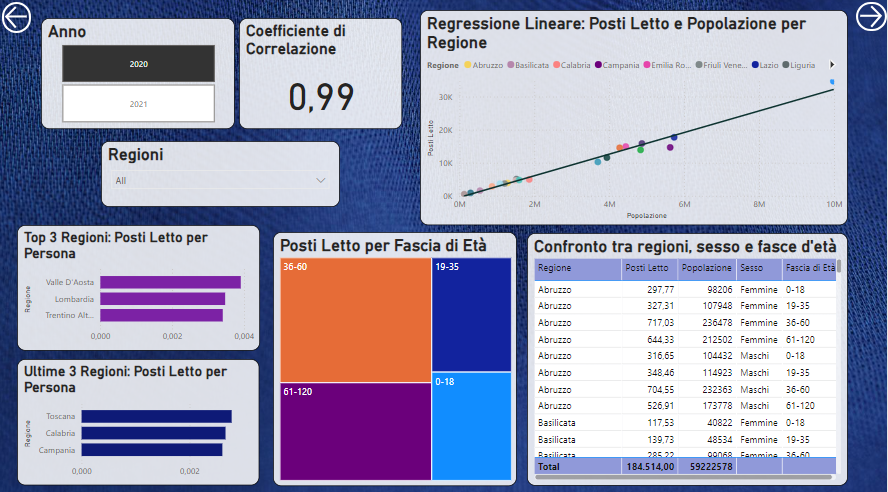

Layout of this report page (visuals, bound fields, positions):
{"tool":"powerbi","page":{"name":"Popolazione/Posti Letto","canvas":[1280,720],"ordinal":2},"visuals":[{"type":"scatterChart","title":"Regressione Lineare: Posti Letto e Popolazione per Regione","fields":{"X":["Measures (2).Popolazione"],"Series":["sanita regioni.nome"],"Y":["Measures (2).Posti Letto ALL"]},"box":[607.7,20.2,616.3,309.6],"z":0},{"type":"card","title":"Coefficiente di Correlazione","fields":{"Values":["Measures (2).popolazione and posti_letto correlation for nome"]},"box":[347,31.7,234.7,159.8],"z":1000},{"type":"slicer","title":"Anno","fields":{"Values":["Calendar.Year"]},"box":[61.9,31.7,279.4,159.8],"z":2000},{"type":"clusteredBarChart","title":"Top 3 Regioni: Posti Letto per Persona","fields":{"Category":["sanita regioni.nome"],"Y":["Measures (2).Posti lettto per persona"]},"box":[27.4,329.8,349.9,181.4],"z":3000},{"type":"slicer","title":"Regioni","fields":{"Values":["sanita regioni.nome"]},"box":[148.3,208.8,344.2,95],"z":4000},{"type":"treemap","title":"Posti Letto per Fascia di Età","fields":{"Values":["Measures (2).Posti Letto ALL"],"Group":["fact sanita popolazione.fascia"]},"box":[396,339.8,351.4,365.8],"z":5000},{"type":"clusteredBarChart","title":"Ultime 3 Regioni: Posti Letto per Persona","fields":{"Category":["sanita regioni.nome"],"Y":["Measures (2).Posti lettto per persona"]},"box":[27.3,523.2,349.4,182.4],"z":6000},{"type":"tableEx","title":"Confronto tra regioni, sesso e fasce d''età","fields":{"Values":["sanita regioni.nome","Measures (2).Posti Letto ALL","Measures (2).Popolazione","fact sanita popolazione.Sesso","fact sanita popolazione.Fascia Eta'"]},"box":[761.8,341.3,462.2,364.3],"z":7000},{"type":"actionButton","box":[5.8,8.6,41.8,44.6],"z":7001},{"type":"actionButton","box":[1235.5,8.6,44.6,41.8],"z":7002}]}

Visuals, with their boxes in screenshot pixels (x1, y1, x2, y2), scaled from the page's 1280x720 canvas onto the 888x492 screenshot:
"Regressione Lineare: Posti Letto e Popolazione per Regione" scatterChart: Rect(422, 14, 849, 225)
"Coefficiente di Correlazione" card: Rect(241, 22, 404, 131)
"Anno" slicer: Rect(43, 22, 237, 131)
"Top 3 Regioni: Posti Letto per Persona" clusteredBarChart: Rect(19, 225, 262, 349)
"Regioni" slicer: Rect(103, 143, 342, 208)
"Posti Letto per Fascia di Età" treemap: Rect(275, 232, 519, 482)
"Ultime 3 Regioni: Posti Letto per Persona" clusteredBarChart: Rect(19, 358, 261, 482)
"Confronto tra regioni, sesso e fasce d''età" tableEx: Rect(528, 233, 849, 482)
actionButton: Rect(4, 6, 33, 36)
actionButton: Rect(857, 6, 887, 34)
